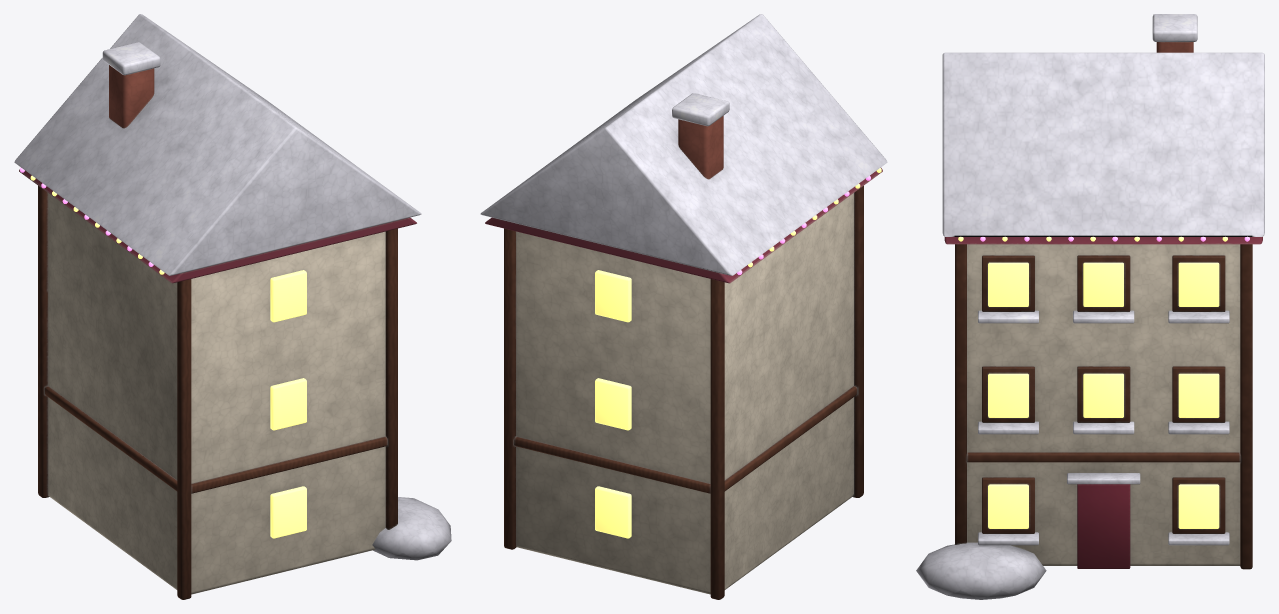
The model's file is sf_house_b.glb.
3 renders of one model, left to right at view 1: azimuth 30°, elevation 25°; view 2: azimuth 150°, elevation 25°; view 3: azimuth 270°, elevation 25°, orthographic. The views are drawn at different scales.
Parts seen in each view (by area): view 1: sf_house_b; view 2: sf_house_b; view 3: sf_house_b.
Part boxes in pixels (left/top/right/bottom): sf_house_b: left=14, top=14, right=451, bottom=599; sf_house_b: left=480, top=14, right=887, bottom=599; sf_house_b: left=916, top=14, right=1264, bottom=599.
Size of the model in its own units: 8.46 by 13.05 by 8.55.
9 materials, 9 textured.
